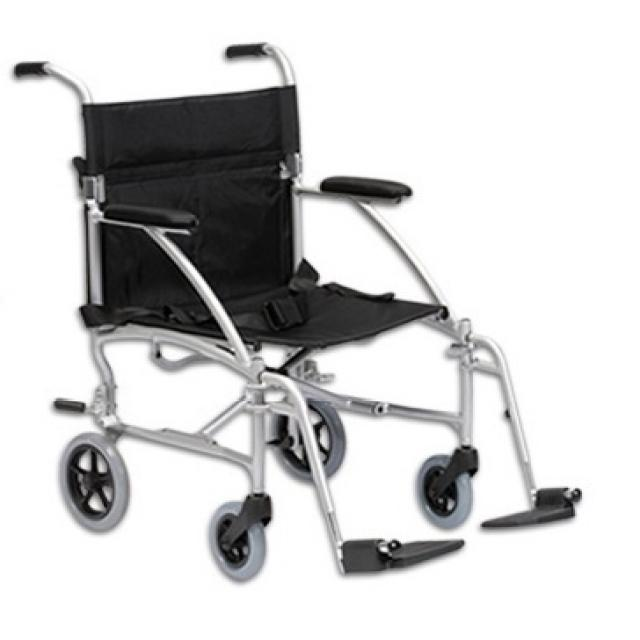wheelchair: (1, 29, 595, 590)
